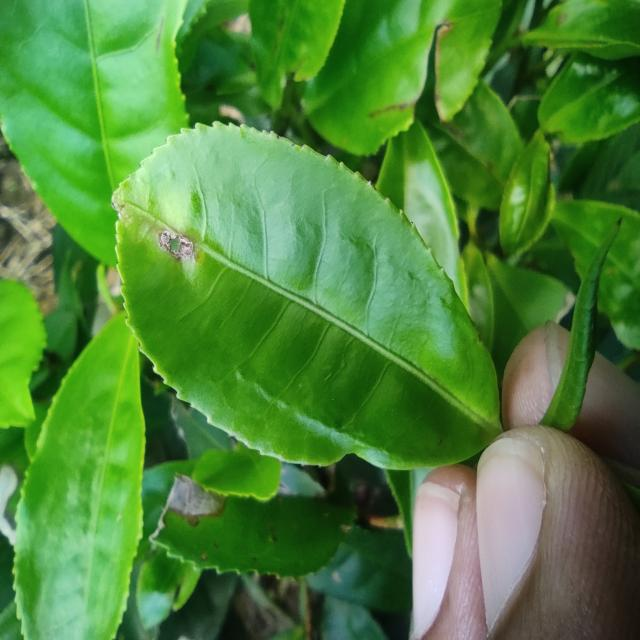Category C(4-7 days): (76, 63, 534, 524)
